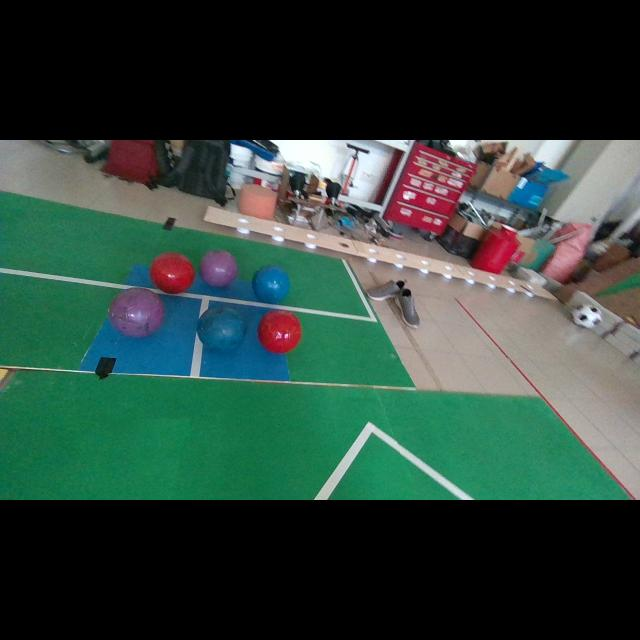B: (198, 306, 246, 351), (252, 266, 290, 303)
P: (109, 288, 165, 338), (199, 250, 236, 286)
R: (258, 310, 302, 354), (150, 252, 195, 294)
